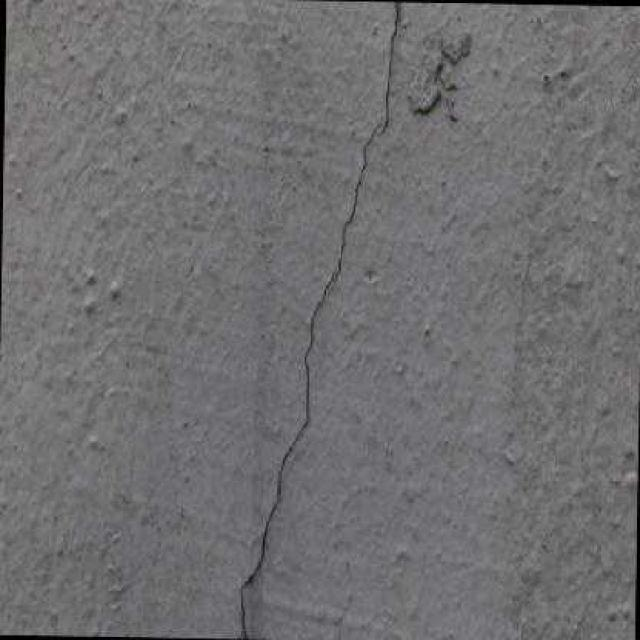D00: (239, 118, 379, 636), (383, 2, 398, 128)
